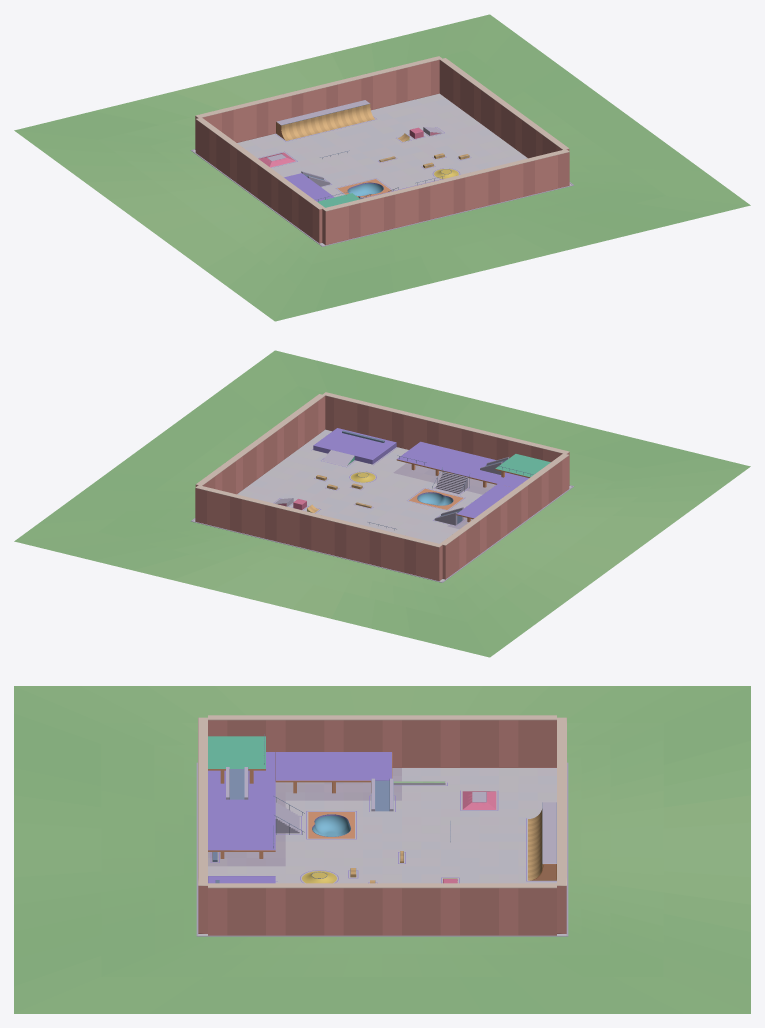
The model's file is mall.glb.
The picture shows the model from 3 angles, top to bottom: view 1: azimuth 30°, elevation 25°; view 2: azimuth 150°, elevation 25°; view 3: azimuth 270°, elevation 25°; orthographic projection. The views are drawn at different scales.
Visible parts, largest first — view 1: park; view 2: park; view 3: park.
Part boxes in pixels (x1,y1,x2,y2): park: (14,14,750,321); park: (14,350,750,657); park: (14,686,750,1013).
Bounding box in the file's own units: 160 × 13.8 × 152.
